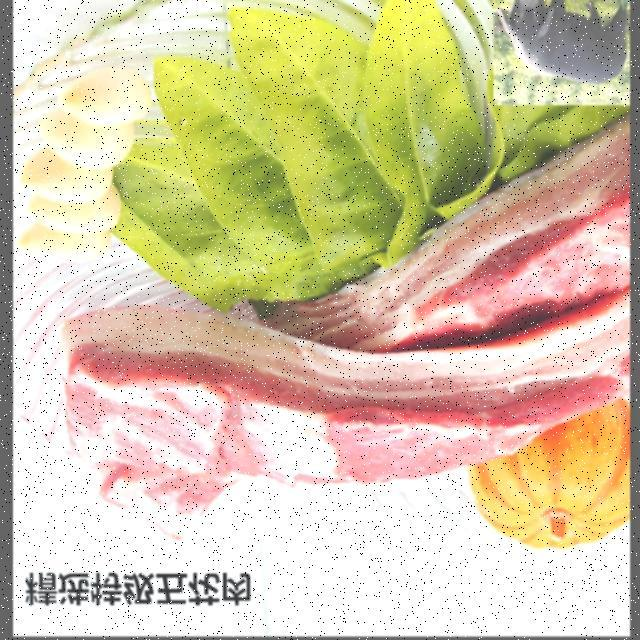pork: (77, 128, 635, 541)
